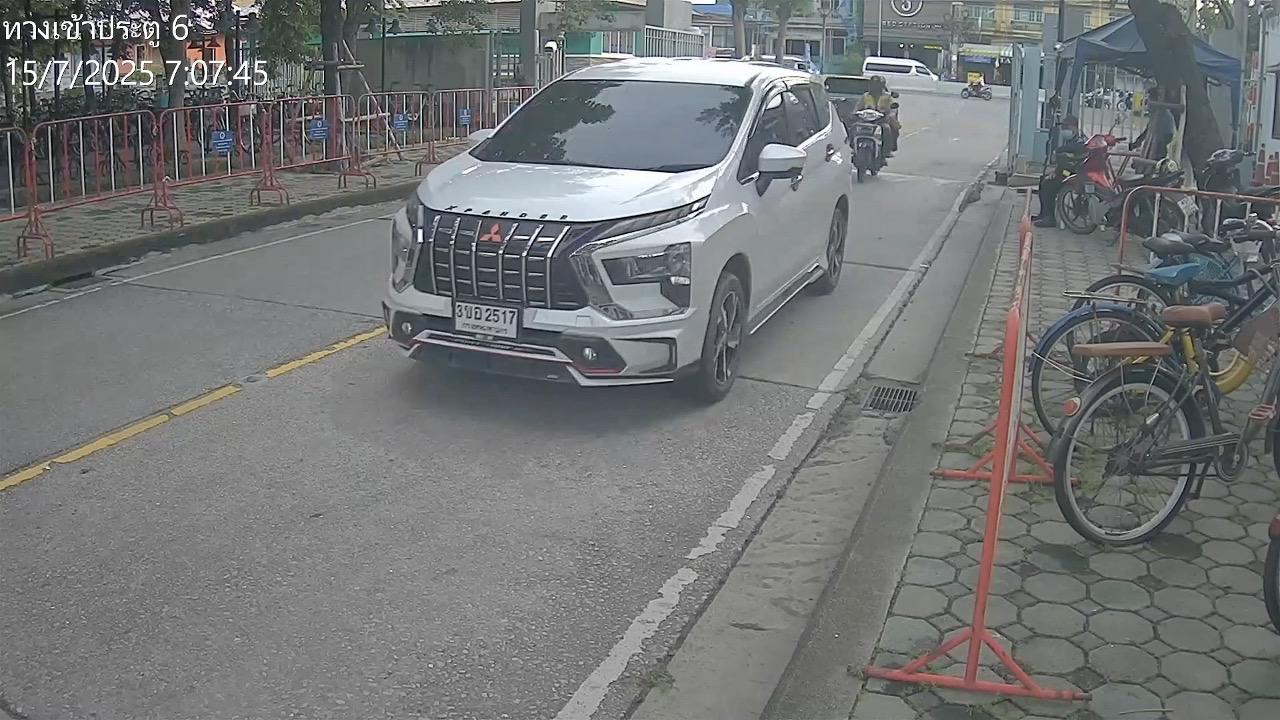With-Helmet: (869, 75, 883, 95)
